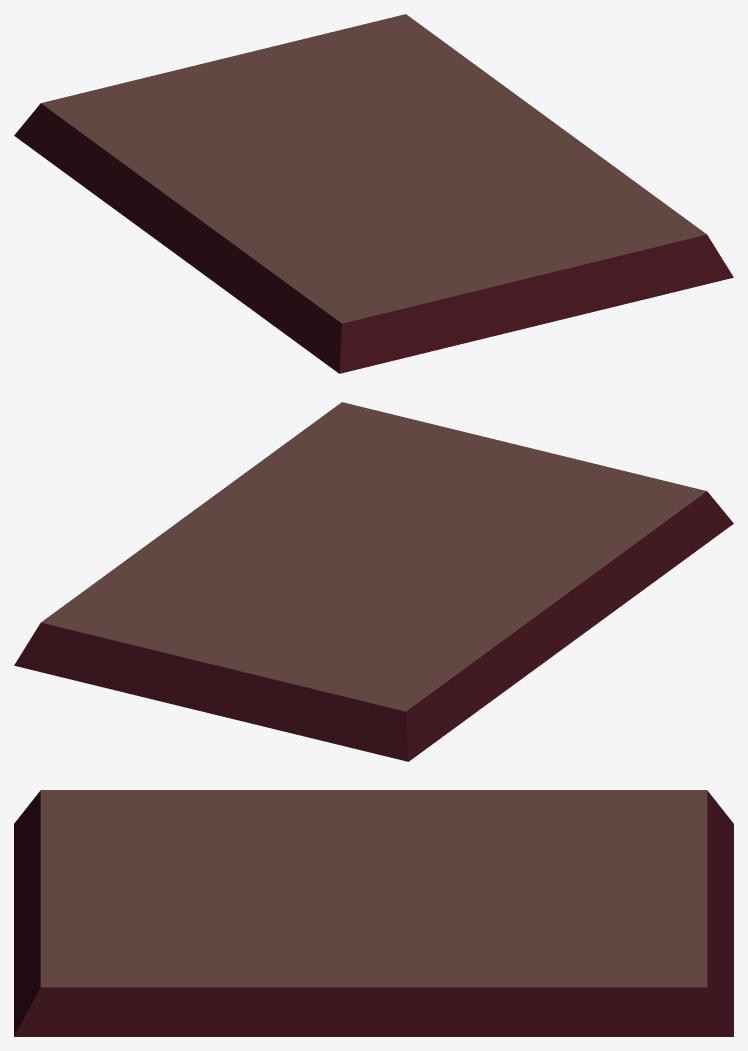
Rendered from lapchao1.fbx.
3 views of the same model, one above another, from view 1: azimuth 30°, elevation 25°; view 2: azimuth 150°, elevation 25°; view 3: azimuth 270°, elevation 25° (orthographic). The views are drawn at different scales.
Parts seen in each view (by area): view 1: Cube; view 2: Cube; view 3: Cube.
Part boxes in pixels (x1,y1,x2,y2): Cube: [14, 14, 733, 373]; Cube: [14, 402, 733, 761]; Cube: [14, 790, 733, 1036].
Bounding box in the file's own units: 628 × 57.48 × 897.
